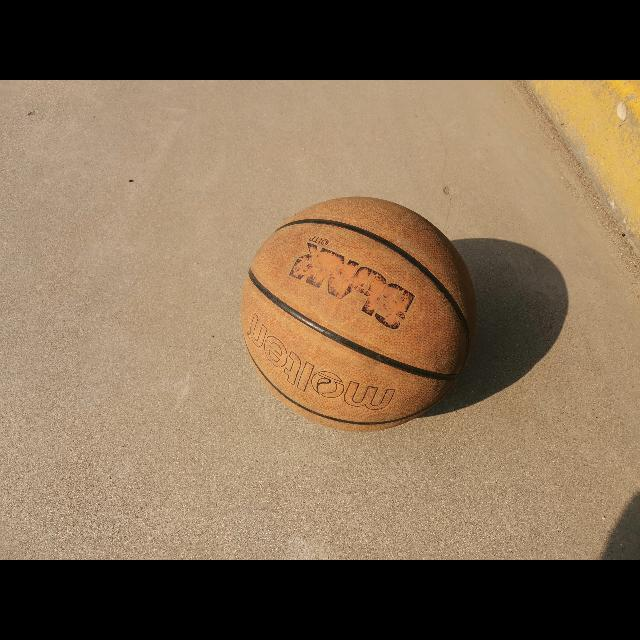basketball: (240, 196, 476, 430)
